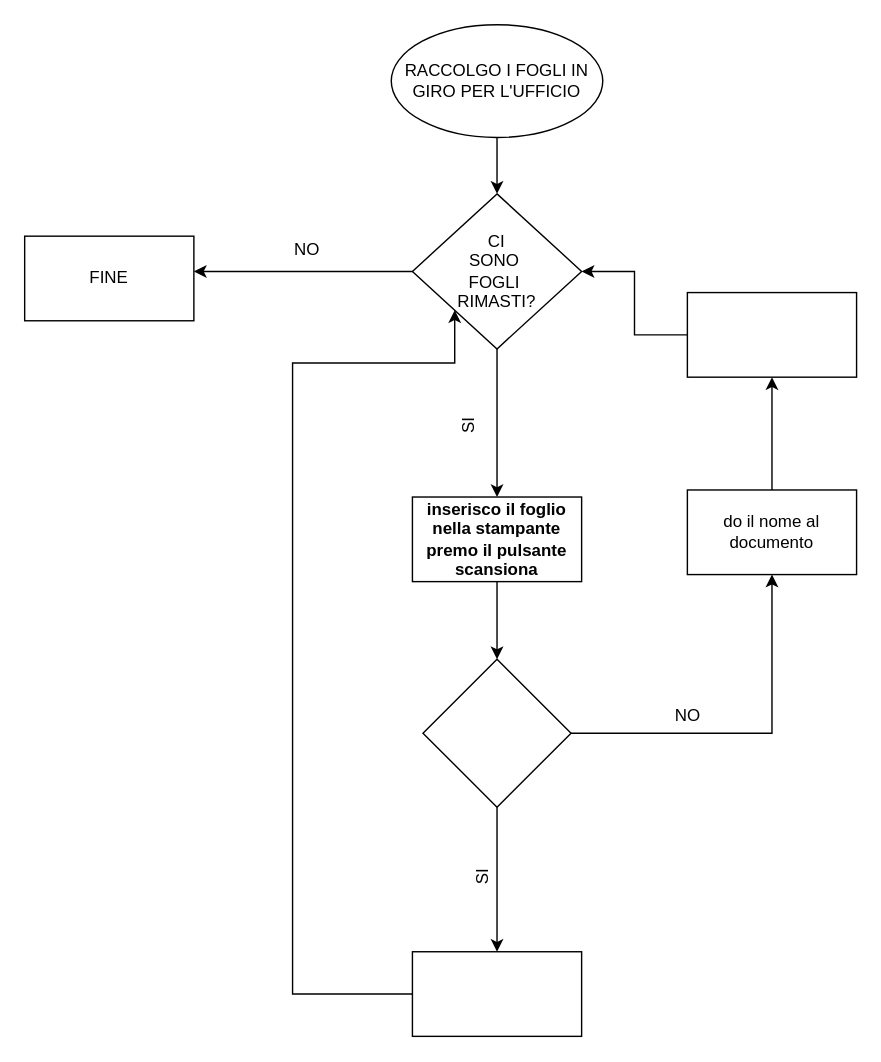
The diagram is 881 pixels wide and 1062 high, and some of its shapes have lost their labels. The centre of each missing label's shape, as x and y in pixels:
"CAMBIO FOGLIO" belongs at (x=771, y=334).
"GIRA IL FOGLIO" belongs at (x=496, y=993).
"IL FOGLIO HA UN RETRO?" belongs at (x=496, y=732).
